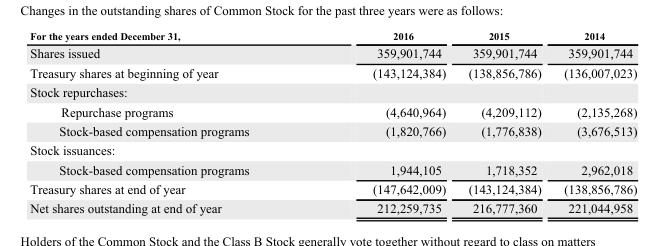table: (29, 29, 636, 215)
table column: (29, 29, 310, 215), (310, 29, 456, 215), (456, 29, 552, 215), (552, 29, 636, 215)
table column header: (29, 29, 636, 43)
table projected row header: (29, 82, 636, 101), (29, 140, 636, 159)
table row: (29, 62, 636, 82), (29, 120, 636, 140), (29, 159, 636, 179), (29, 43, 636, 62), (29, 82, 636, 101), (29, 101, 636, 120), (29, 140, 636, 159), (29, 179, 636, 198), (29, 198, 636, 215), (29, 29, 636, 43)
